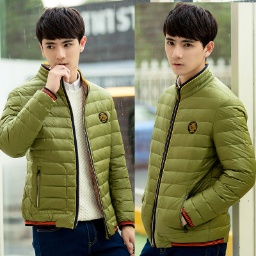face: (160, 2, 219, 77), (34, 6, 90, 74)
